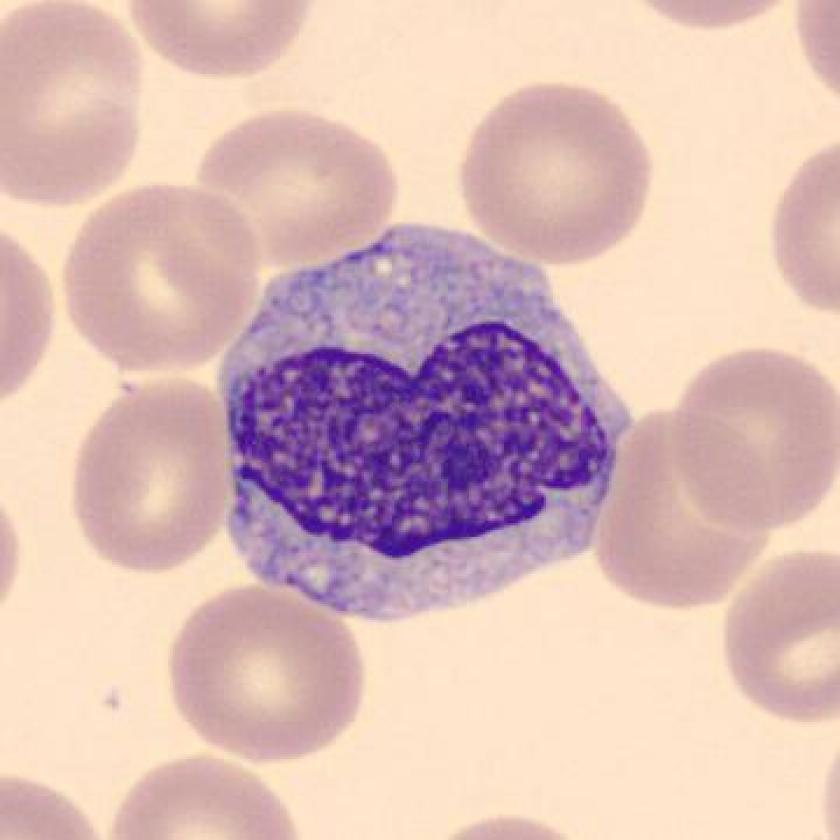monocyte: (199, 207, 645, 640)
